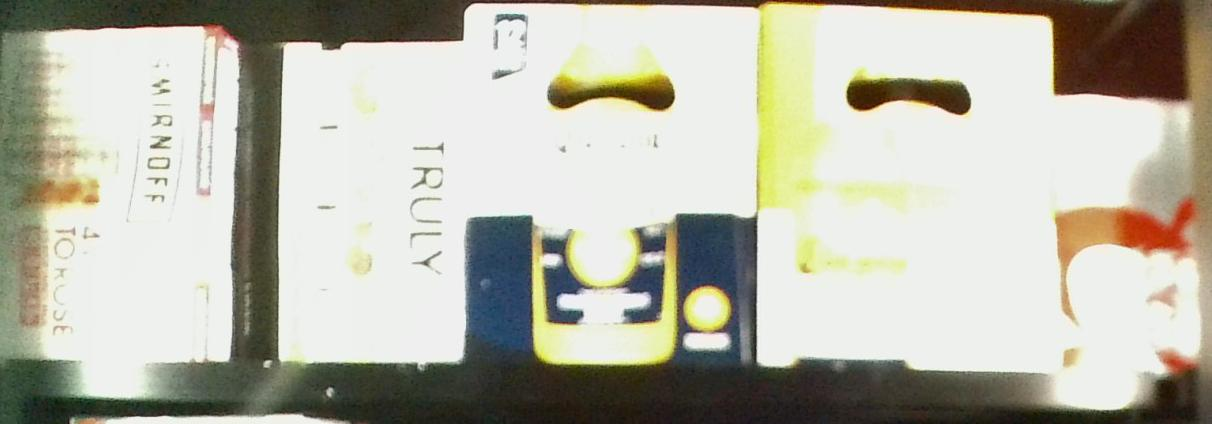bottle: (758, 6, 1060, 370), (464, 6, 757, 367), (1, 18, 238, 360), (241, 38, 466, 360), (1060, 92, 1204, 373)
